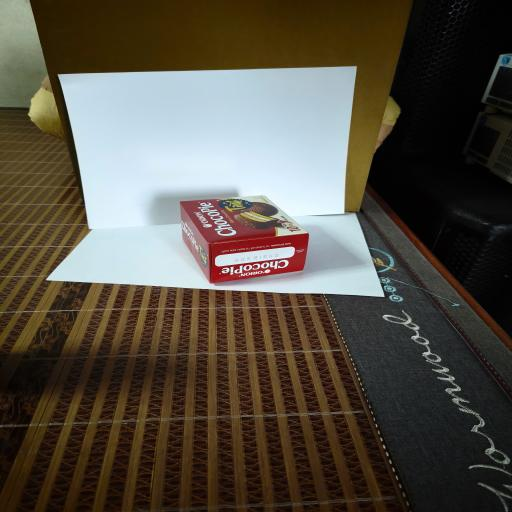chocopie: (180, 195, 309, 284)
